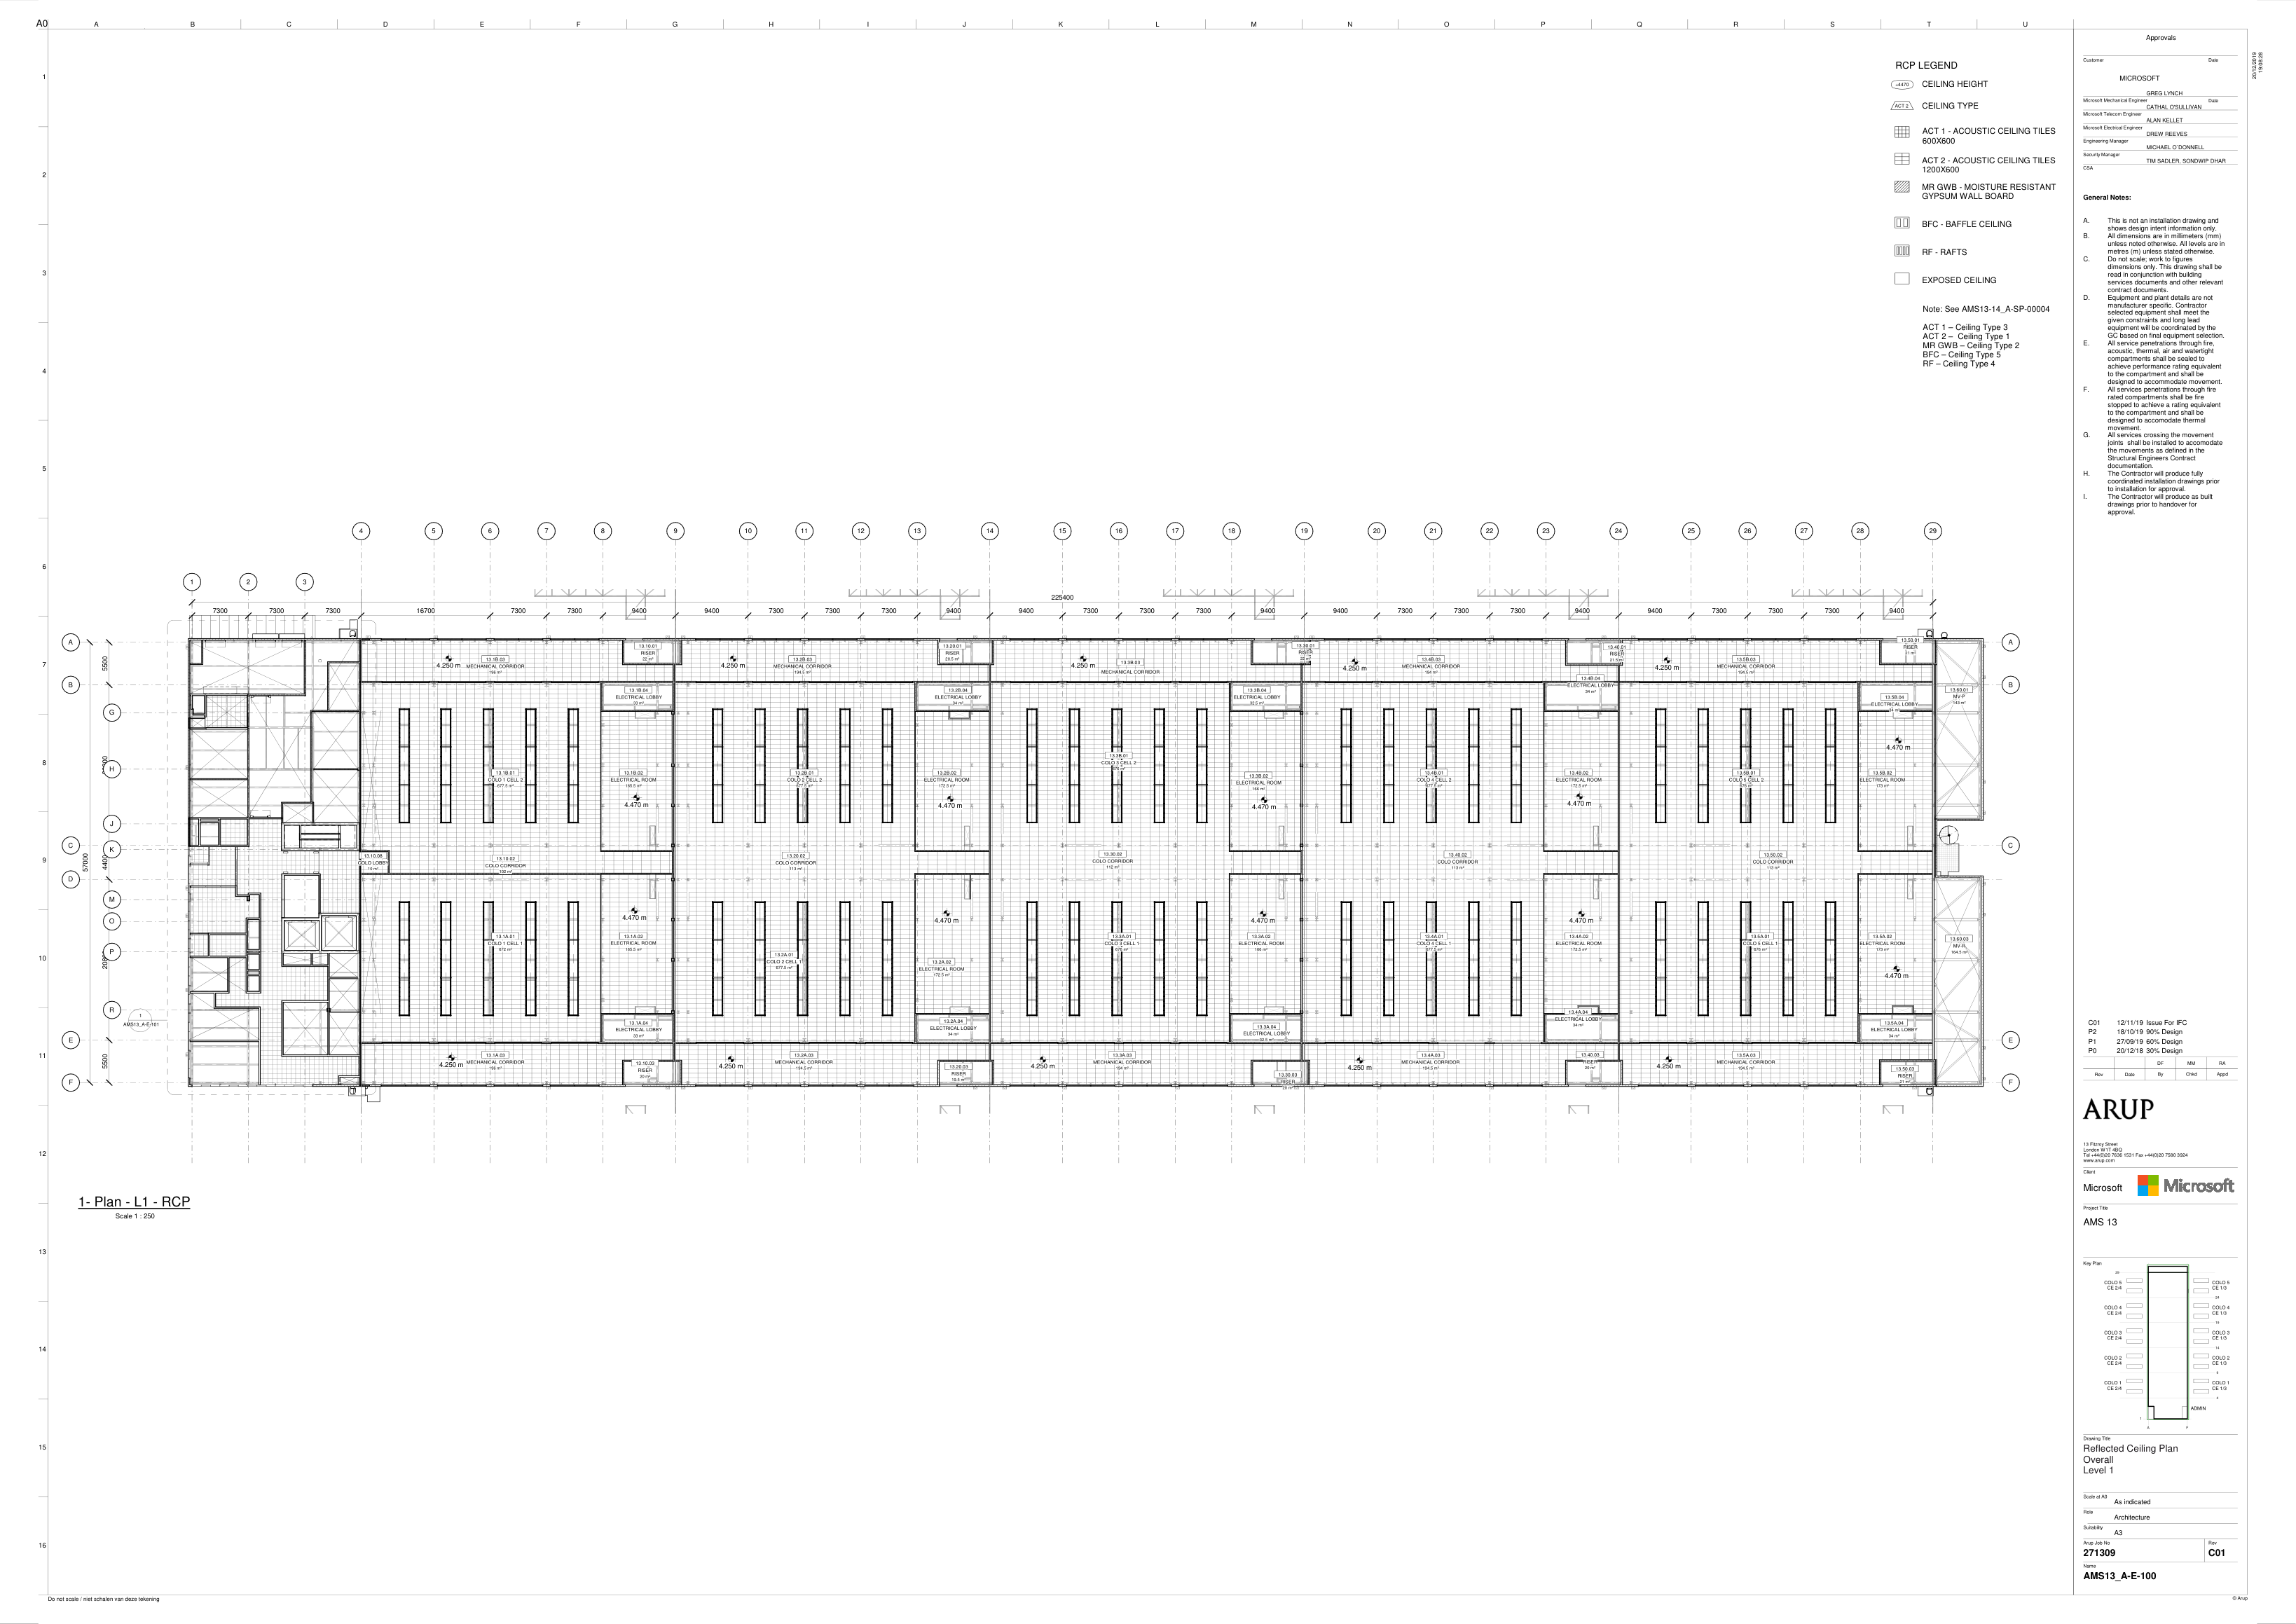Legend: (1888, 58, 2057, 371)
